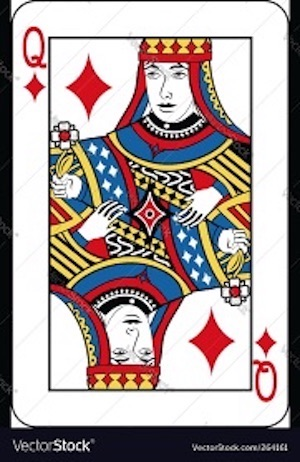QueenOfDiamonds: (12, 1, 287, 429)
